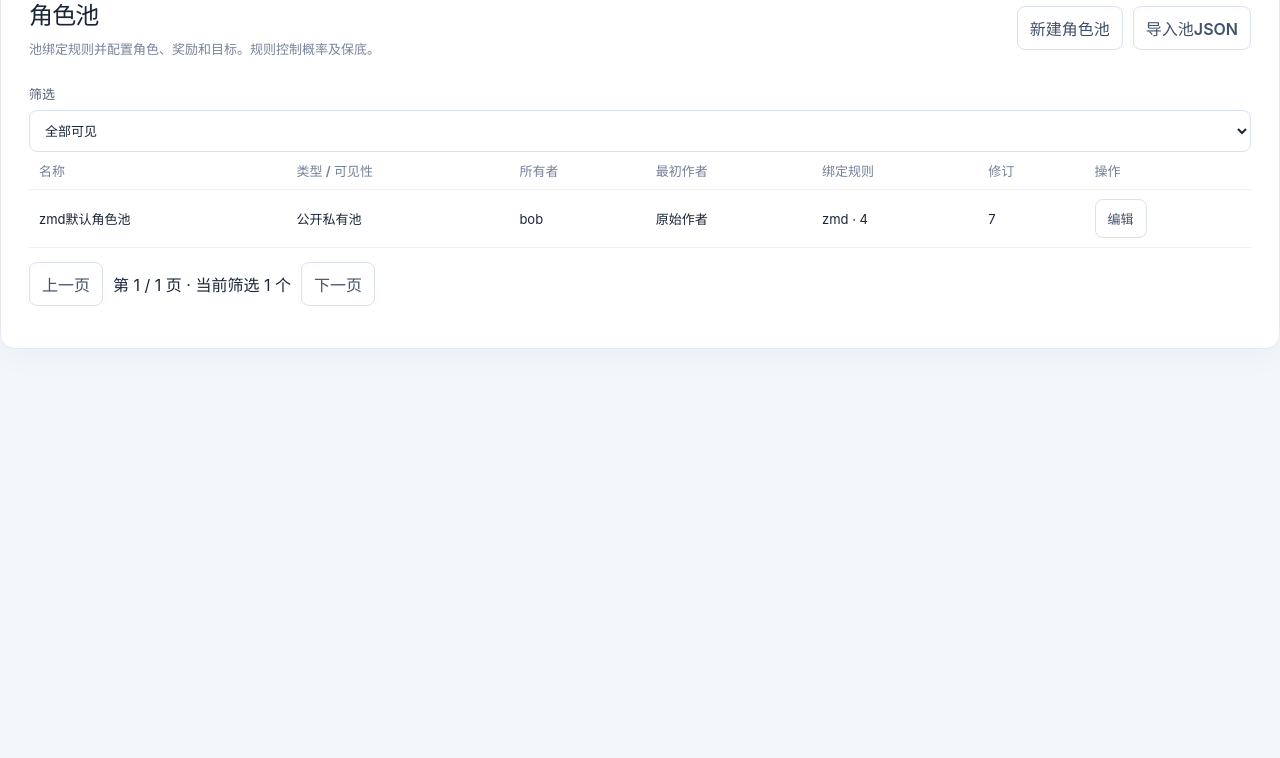
rechecks access after a denied save and shows an accessible pool read-only
Click the button "编辑".
click(1121, 218)  # box [1095,199,1147,238]
(page scrolled)
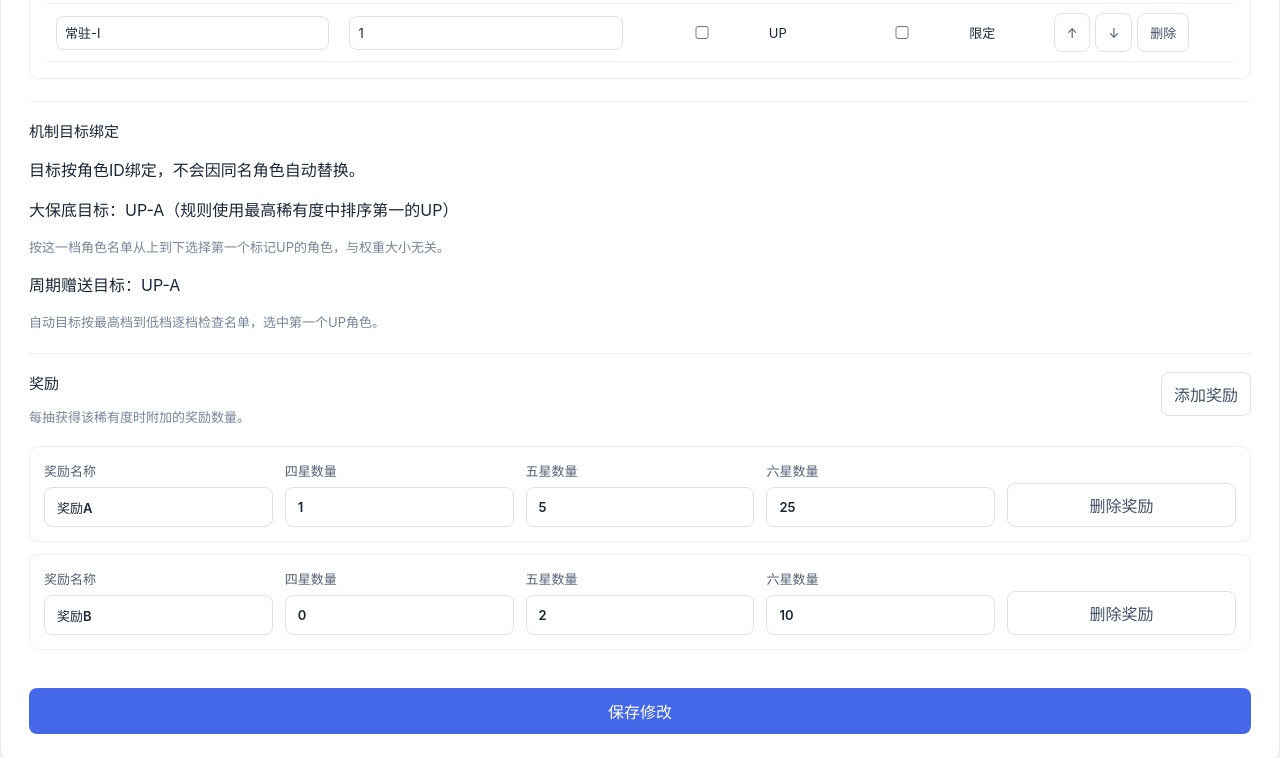
Click the button "保存修改".
click(640, 711)  # box [29,688,1251,734]
(page scrolled)
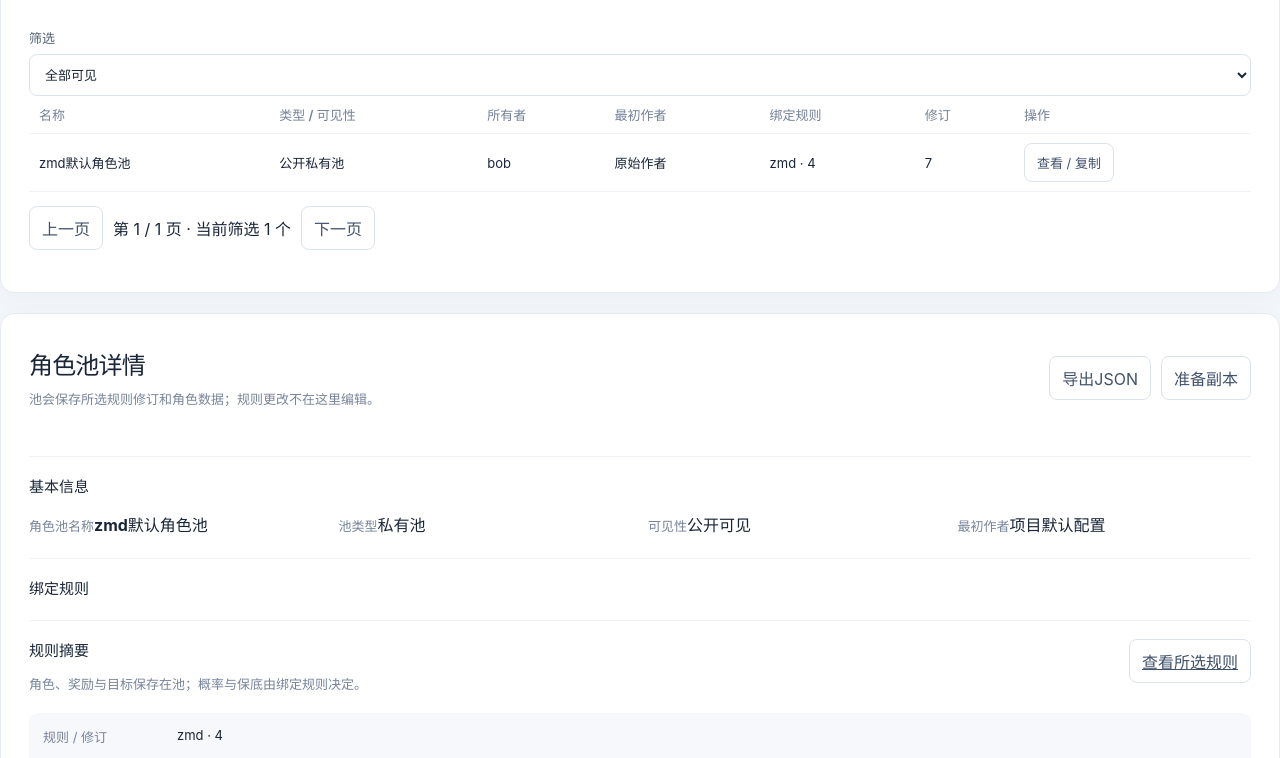
expect the heading "角色池详情" is shown: met, box [29,351,145,380]
